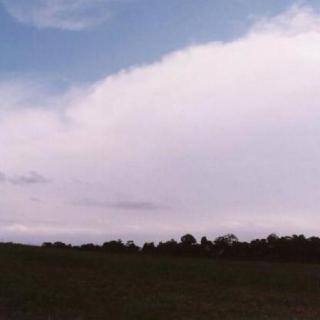Stratus: (0, 0, 320, 240)
